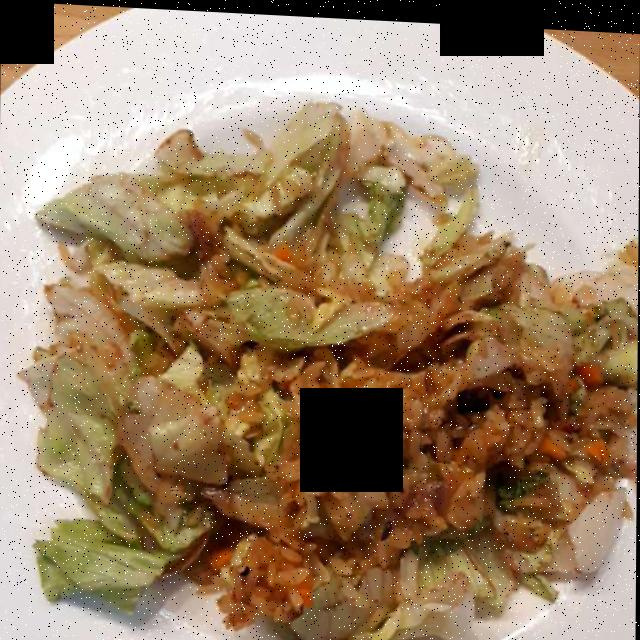rice: (152, 241, 594, 628)
salad-leaf-salad-green: (40, 113, 623, 632)
